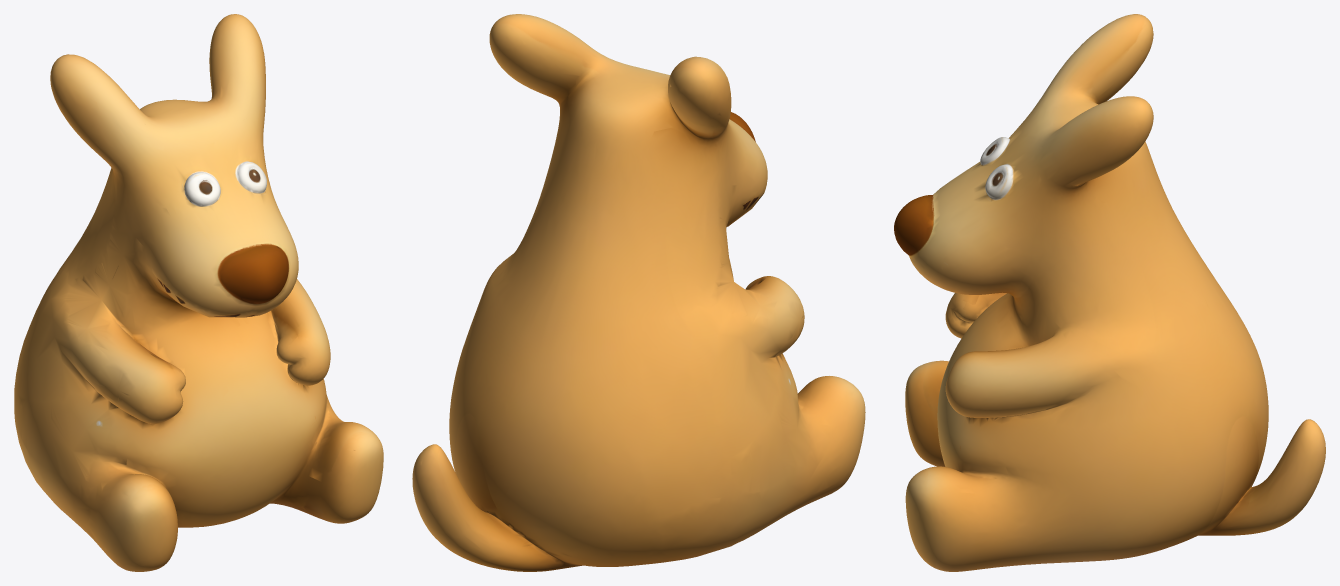
Rendered from meituan_kangaroo.glb.
The picture shows the model from 3 angles, left to right: view 1: azimuth 30°, elevation 25°; view 2: azimuth 150°, elevation 25°; view 3: azimuth 270°, elevation 25°; orthographic projection. The views are drawn at different scales.
Parts seen in each view (by area): view 1: MeituanKangaroo; view 2: MeituanKangaroo; view 3: MeituanKangaroo.
Boxes of the visible parts, x1=… form: MeituanKangaroo: x1=14, y1=14, x2=383, y2=571; MeituanKangaroo: x1=412, y1=14, x2=865, y2=571; MeituanKangaroo: x1=894, y1=14, x2=1325, y2=571.
Bounding box in the file's own units: 0.591 × 0.9254 × 0.7831.
1 material, 1 textured.
